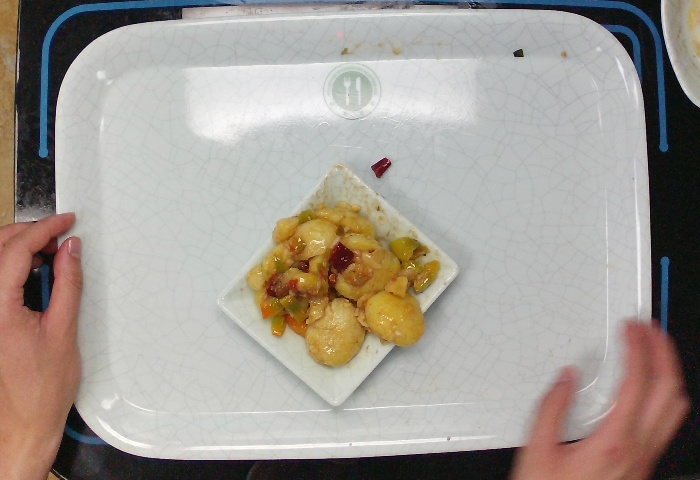WCQzf-Ru_Ci_Si_Fang_Die: (213, 163, 460, 408)
